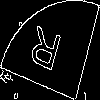R: (25, 25, 64, 81)
